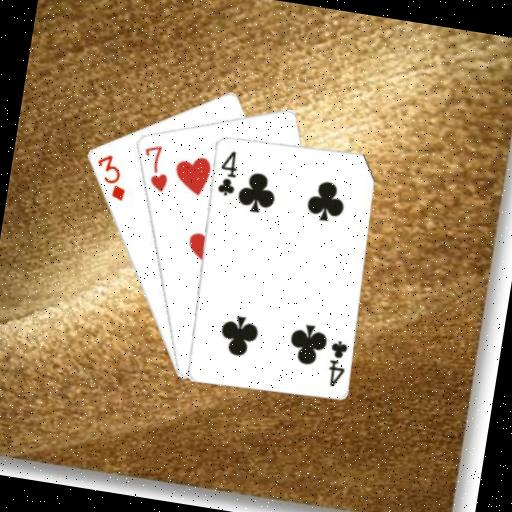3D: (88, 149, 132, 203)
4C: (321, 334, 351, 388), (213, 145, 242, 198)
7H: (134, 139, 174, 194)
